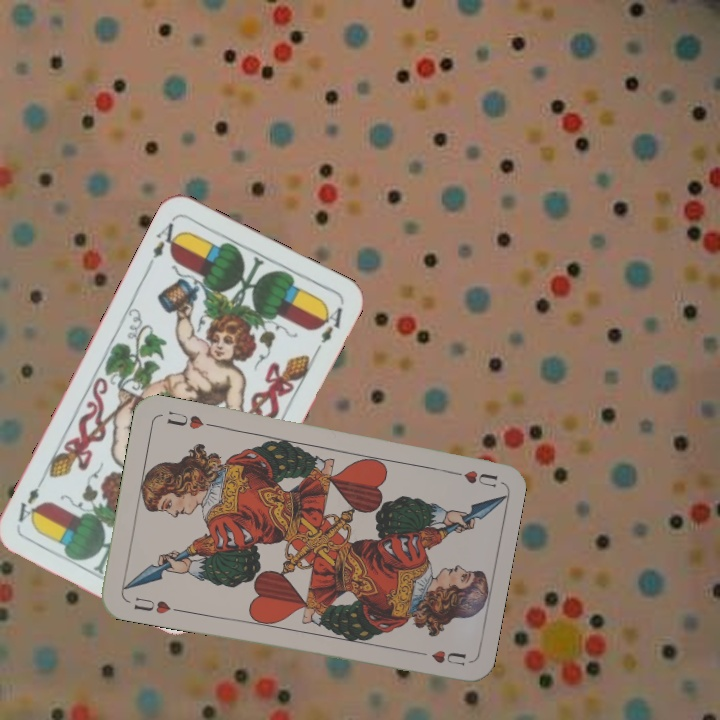EA: (144, 218, 184, 270)
HU: (442, 465, 500, 490), (129, 593, 183, 617)
